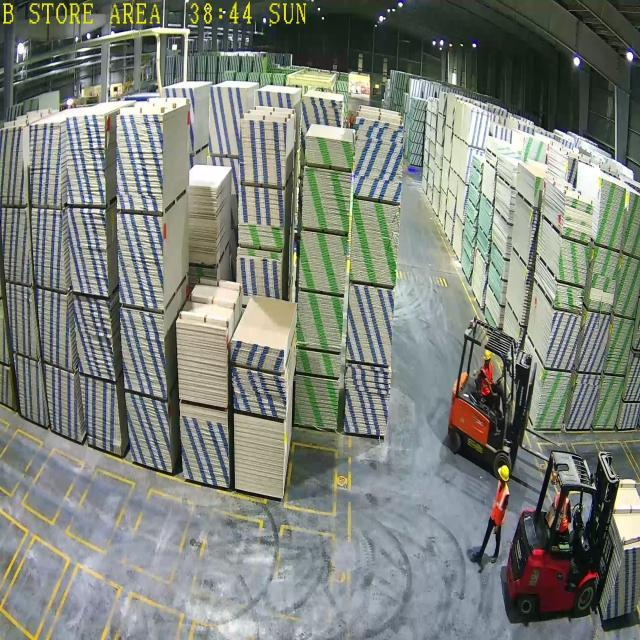stack: (353, 117, 404, 201), (234, 412, 284, 497), (350, 200, 399, 284), (346, 285, 394, 365), (345, 364, 391, 436), (302, 166, 352, 232), (299, 232, 347, 293), (232, 367, 286, 419), (297, 291, 343, 351), (295, 374, 339, 430), (535, 370, 572, 428), (596, 178, 626, 249), (545, 311, 581, 370), (588, 246, 619, 312), (578, 311, 611, 372), (567, 374, 600, 429), (230, 340, 284, 372), (605, 316, 634, 374), (615, 255, 640, 318), (594, 376, 624, 428), (562, 195, 594, 243), (306, 135, 352, 168), (558, 238, 589, 286), (296, 350, 340, 378), (623, 192, 640, 257), (555, 284, 584, 311)
